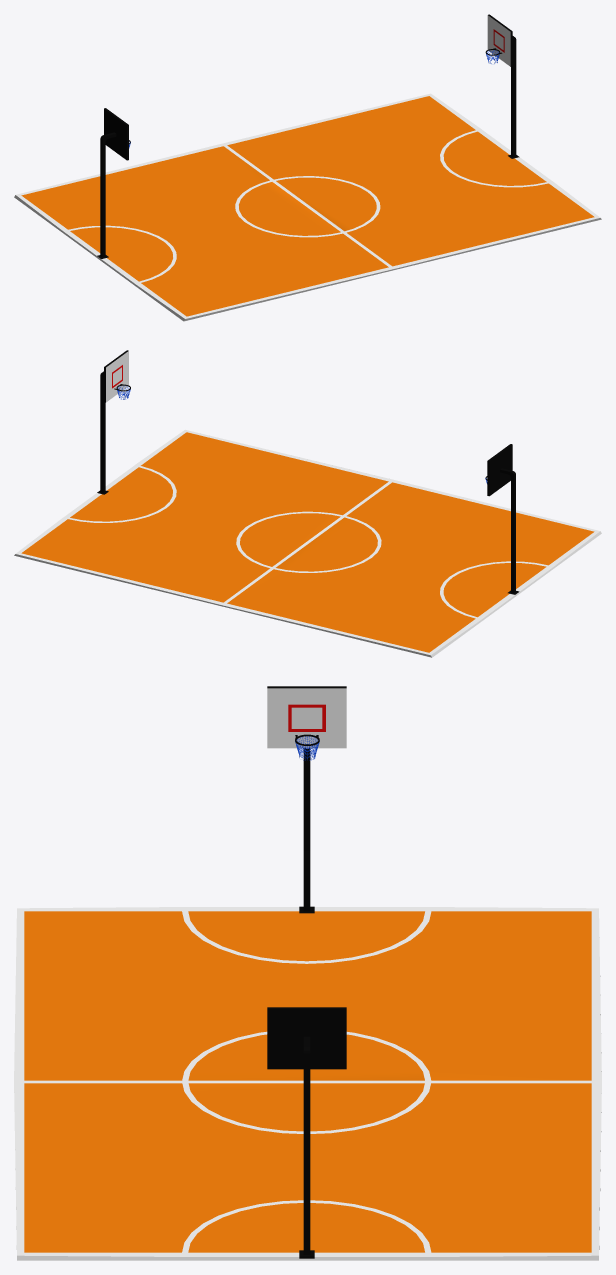
File: basket_1.fbx
3 views of the same model, one above another, from view 1: azimuth 30°, elevation 25°; view 2: azimuth 150°, elevation 25°; view 3: azimuth 270°, elevation 25° (orthographic). The views are drawn at different scales.
Parts seen in each view (by area): view 1: basket_1, basket_2, basket; view 2: basket_1, basket_2, basket; view 3: basket_1, basket_2, basket.
Boxes of the visible parts, x1=… form: basket_1: x1=14, y1=93, x2=601, y2=321; basket_2: x1=485, y1=14, x2=519, y2=158; basket: x1=97, y1=108, x2=130, y2=258; basket_1: x1=14, y1=429, x2=601, y2=657; basket_2: x1=97, y1=350, x2=130, y2=494; basket: x1=485, y1=444, x2=519, y2=594; basket_1: x1=14, y1=907, x2=601, y2=1260; basket_2: x1=267, y1=1007, x2=346, y2=1258; basket: x1=267, y1=686, x2=346, y2=913.
Size of the model in its own units: 8404 by 2661 by 5966.
